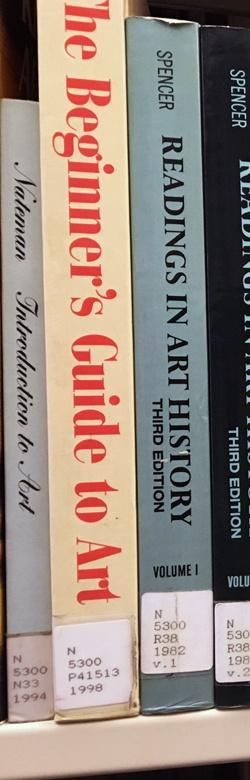call_number: (50, 624, 135, 707), (139, 592, 212, 673), (5, 636, 51, 720), (218, 601, 249, 681)
